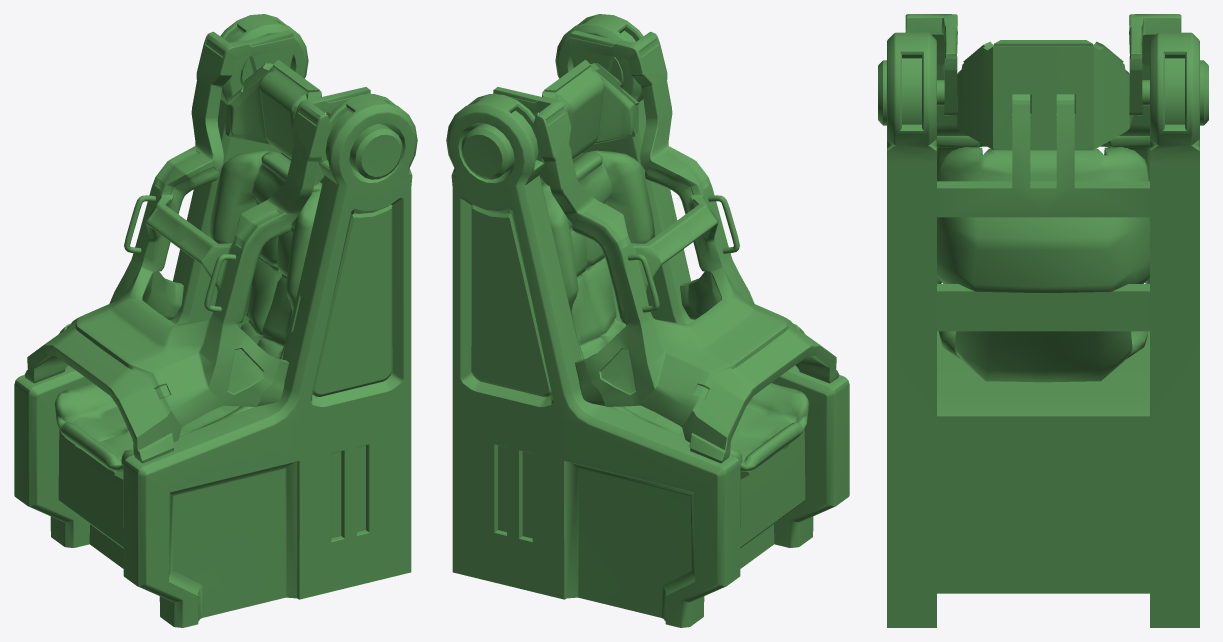
The model's file is REENTRY_CRAFT_SEAT_mesh.fbx.
The picture shows the model from 3 angles, left to right: view 1: azimuth 30°, elevation 25°; view 2: azimuth 150°, elevation 25°; view 3: azimuth 270°, elevation 25°; orthographic projection. The views are drawn at different scales.
Parts seen in each view (by area): view 1: EPOD_CHAIR_MAIN_GEO, EPOD_CHAIR_BAR_GEO; view 2: EPOD_CHAIR_MAIN_GEO, EPOD_CHAIR_BAR_GEO; view 3: EPOD_CHAIR_MAIN_GEO, EPOD_CHAIR_BAR_GEO.
Boxes of the visible parts, box(x1,y1,x2,y2) form: EPOD_CHAIR_MAIN_GEO: box(14, 14, 417, 627); EPOD_CHAIR_BAR_GEO: box(24, 30, 370, 463); EPOD_CHAIR_MAIN_GEO: box(446, 14, 849, 627); EPOD_CHAIR_BAR_GEO: box(493, 30, 839, 463); EPOD_CHAIR_MAIN_GEO: box(878, 32, 1208, 627); EPOD_CHAIR_BAR_GEO: box(905, 14, 1181, 283).
Size of the model in its own units: 1.09 by 1.76 by 0.9253.
